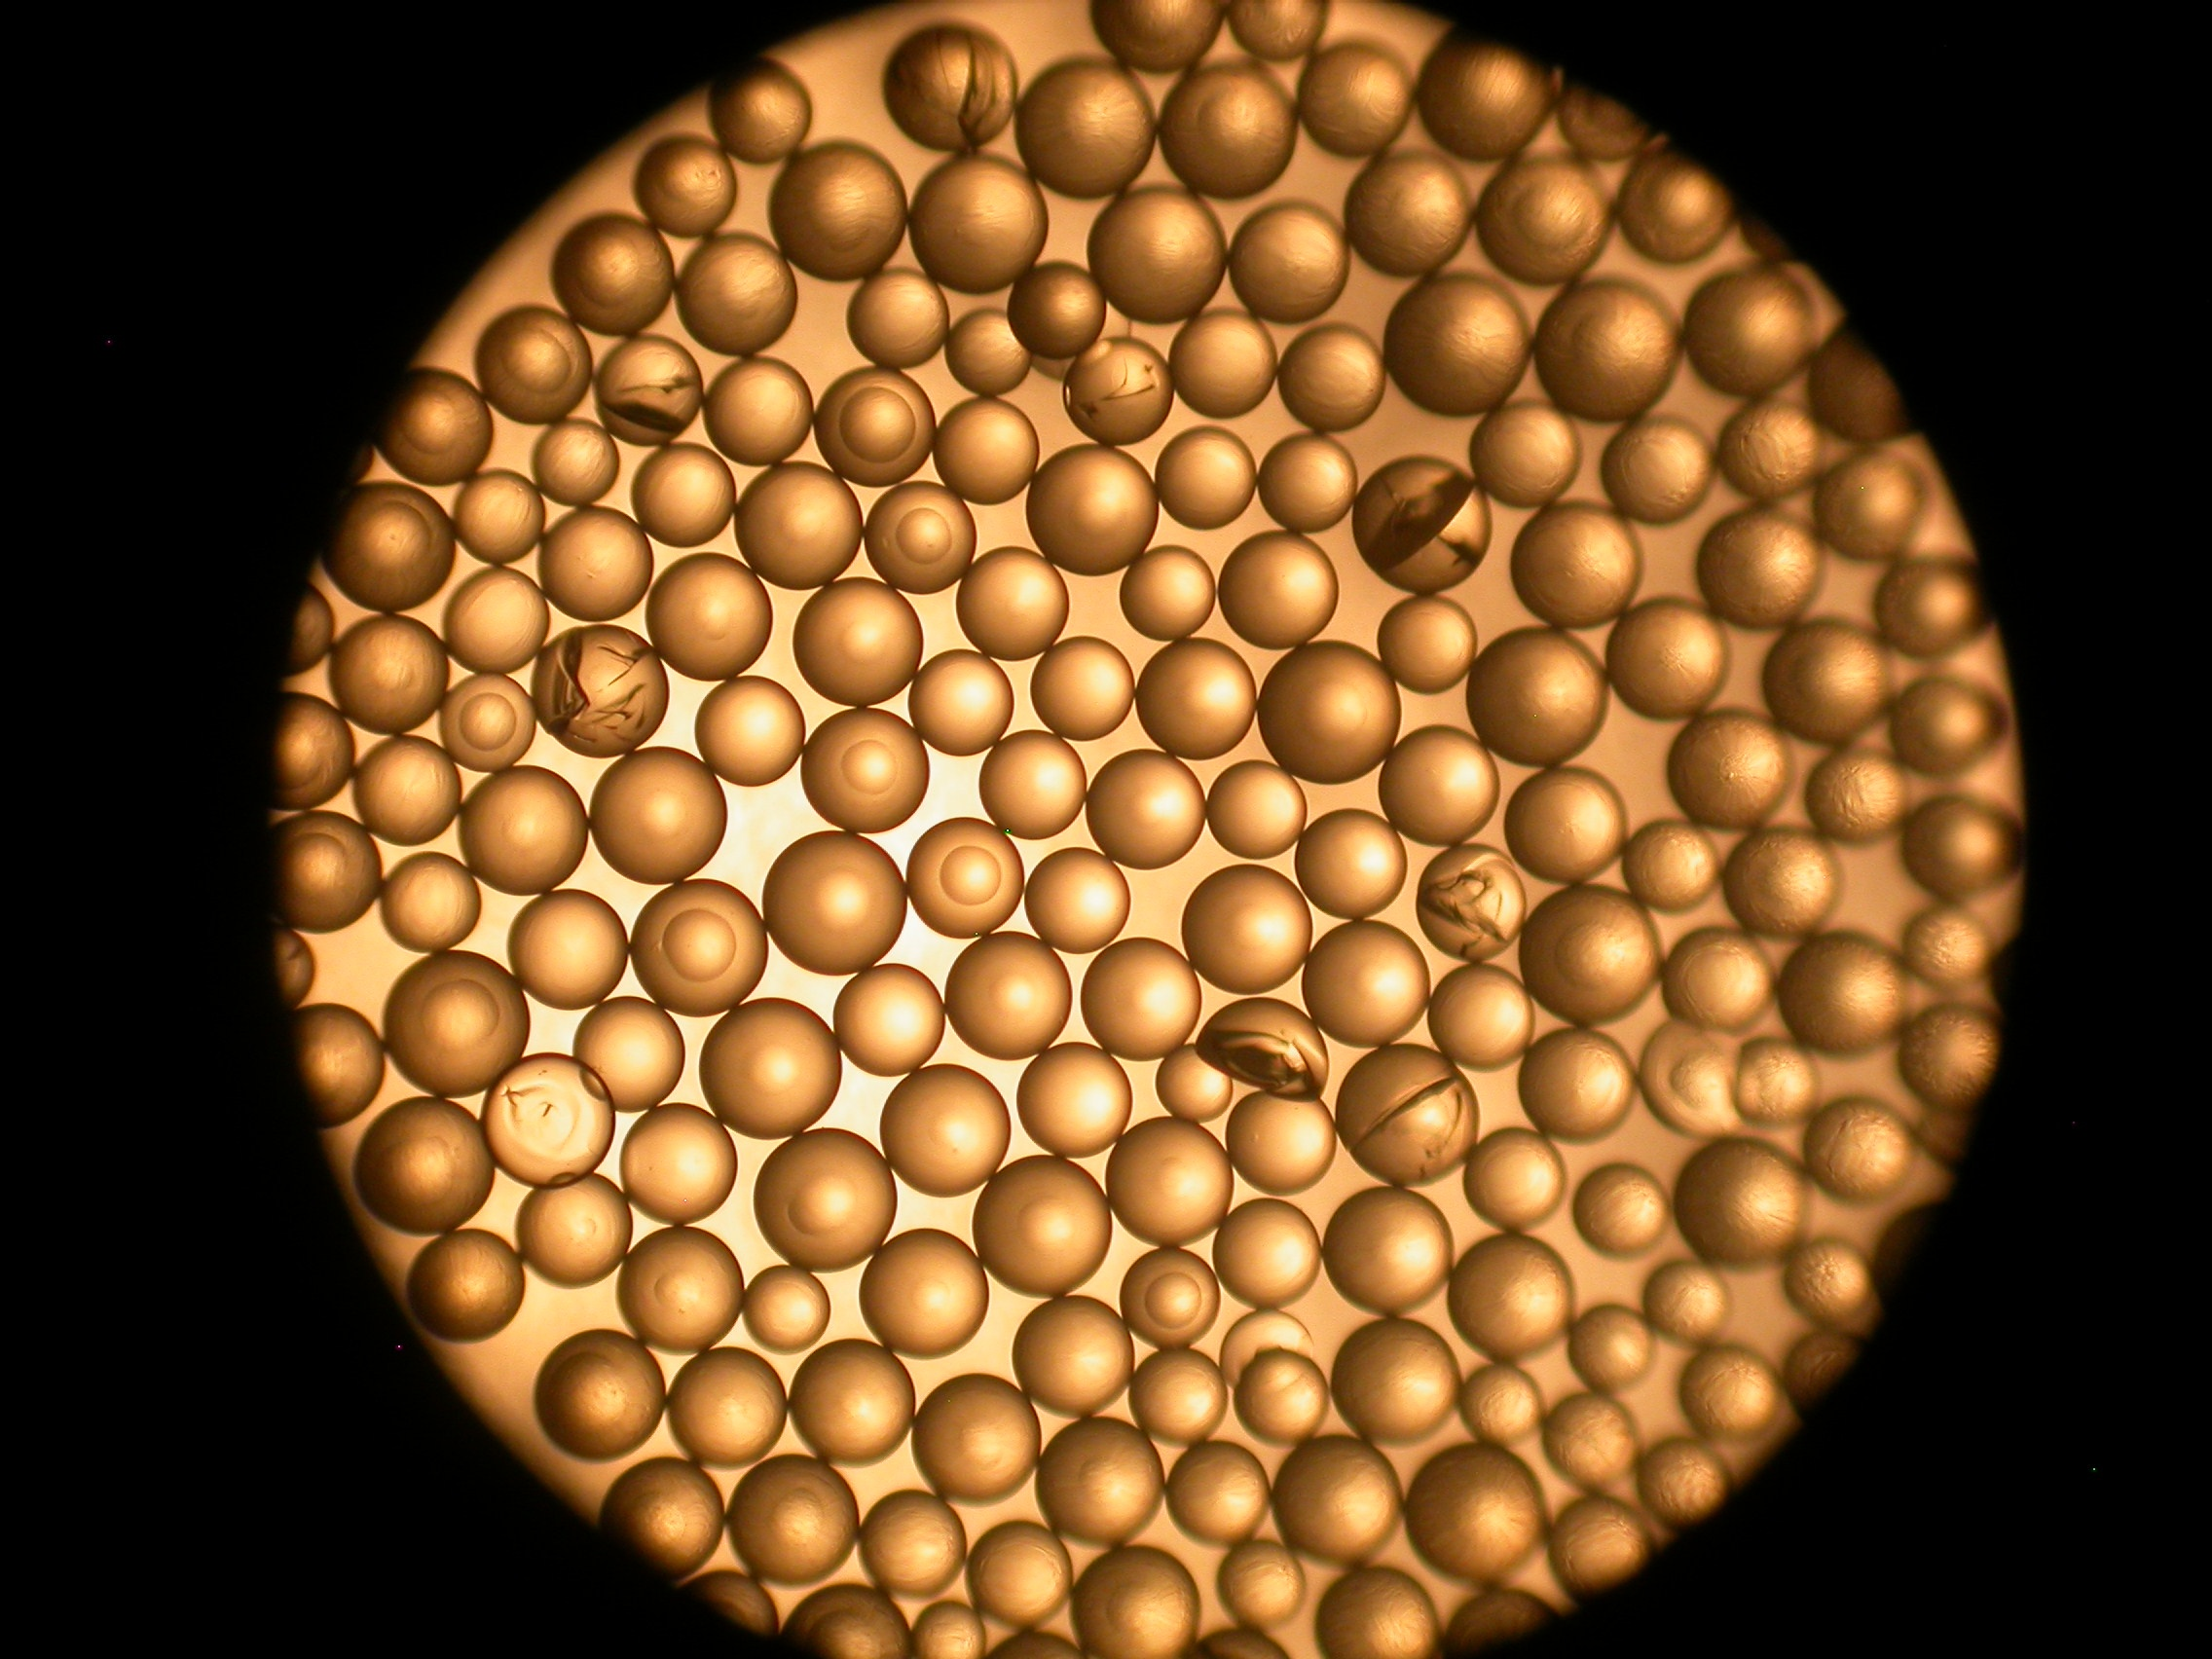destroyed_resin: (1334, 1044, 1479, 1188), (1350, 455, 1491, 592), (529, 622, 671, 758), (881, 21, 1019, 152), (1416, 843, 1529, 960), (1197, 999, 1331, 1094), (1062, 336, 1172, 446), (596, 335, 704, 446), (1639, 1021, 1737, 1140), (1221, 1312, 1308, 1380)
full_resin: (385, 950, 531, 1100), (1385, 274, 1531, 418), (763, 831, 907, 976), (698, 997, 843, 1141), (1258, 640, 1402, 784), (1406, 1441, 1547, 1588), (754, 1129, 897, 1272), (1536, 279, 1679, 422), (1519, 885, 1662, 1028), (972, 1155, 1113, 1298), (909, 153, 1050, 296), (352, 1096, 496, 1236), (1015, 59, 1157, 200), (1467, 627, 1608, 769), (768, 141, 907, 281), (631, 878, 770, 1018), (1087, 186, 1226, 326), (587, 746, 726, 884), (1158, 61, 1298, 199), (320, 479, 456, 613), (1475, 153, 1613, 284), (533, 1328, 665, 1462), (1181, 863, 1313, 995), (1026, 444, 1158, 577), (880, 1065, 1010, 1199), (1416, 31, 1550, 162), (728, 1455, 860, 1586), (1674, 1140, 1806, 1270), (1686, 263, 1813, 399), (1035, 1417, 1165, 1547), (1324, 1187, 1454, 1317), (1271, 1436, 1402, 1567), (1331, 1317, 1463, 1446), (944, 931, 1073, 1061), (911, 1375, 1042, 1504), (860, 1229, 989, 1359), (460, 767, 589, 897), (1510, 502, 1641, 631), (1104, 1117, 1233, 1246), (733, 462, 862, 591), (1303, 920, 1432, 1049), (787, 1338, 916, 1467), (1447, 1234, 1576, 1363), (1778, 929, 1909, 1056), (1763, 620, 1897, 744), (794, 579, 923, 706), (646, 552, 773, 681), (799, 708, 930, 833), (618, 1225, 744, 1356), (1346, 152, 1472, 279), (1606, 596, 1731, 721), (1696, 505, 1824, 629), (1667, 709, 1796, 831), (550, 213, 674, 336), (1615, 145, 1738, 268), (1080, 938, 1202, 1063), (599, 1457, 725, 1579), (1376, 725, 1501, 847), (676, 234, 798, 357), (1136, 638, 1258, 762), (664, 1347, 787, 1469), (1085, 748, 1207, 870), (1217, 530, 1339, 652), (507, 889, 629, 1011), (1071, 1546, 1202, 1659), (1012, 1297, 1134, 1417), (813, 368, 935, 488), (327, 615, 449, 735), (1228, 202, 1350, 322), (1505, 767, 1629, 885), (266, 809, 383, 934), (906, 817, 1024, 939), (620, 1103, 738, 1223), (514, 1168, 632, 1286), (374, 368, 493, 486), (475, 307, 592, 425), (1723, 826, 1844, 939), (1017, 1042, 1134, 1159), (408, 1229, 526, 1342), (538, 507, 653, 622), (573, 997, 686, 1114), (1296, 44, 1413, 157), (1519, 1028, 1635, 1141), (954, 547, 1069, 660), (1599, 413, 1716, 525), (833, 964, 946, 1077), (864, 481, 977, 594), (1813, 451, 1926, 565), (1813, 321, 1916, 444), (1294, 809, 1407, 920), (352, 734, 463, 847), (1211, 1197, 1322, 1309), (977, 728, 1087, 840), (695, 676, 805, 788), (287, 1004, 385, 1129), (704, 357, 813, 467), (857, 1490, 968, 1598), (1277, 322, 1388, 430), (1662, 927, 1777, 1032), (1226, 1089, 1336, 1197), (1472, 401, 1581, 509), (1804, 1098, 1916, 1204), (1024, 847, 1132, 955), (1426, 964, 1534, 1072), (442, 566, 550, 674), (1169, 310, 1277, 418), (963, 1520, 1073, 1626), (1900, 795, 2010, 901), (1315, 1567, 1440, 1659), (1717, 396, 1825, 502), (1897, 1004, 2005, 1110), (1876, 554, 1986, 659), (1029, 636, 1136, 742), (909, 648, 1014, 756), (934, 399, 1038, 505), (631, 443, 735, 549), (707, 59, 812, 166), (1167, 1441, 1270, 1547), (632, 136, 737, 239), (265, 692, 355, 810), (1548, 1497, 1651, 1600), (845, 268, 949, 369), (1157, 427, 1258, 530), (1376, 594, 1479, 695), (1463, 1129, 1566, 1230), (1120, 1248, 1221, 1349), (1681, 1344, 1782, 1445), (1892, 678, 1994, 777), (1804, 746, 1909, 843), (1207, 760, 1308, 859), (1258, 432, 1357, 533), (381, 852, 482, 951), (780, 1582, 911, 1659), (1129, 1349, 1230, 1446), (1087, 2, 1224, 71), (439, 674, 535, 774), (1545, 1392, 1641, 1490), (1571, 1162, 1670, 1256), (1120, 545, 1216, 641), (1623, 819, 1721, 913), (1233, 1352, 1329, 1446), (453, 469, 547, 563), (1008, 263, 1104, 355), (1902, 901, 1994, 993), (1733, 1035, 1820, 1133), (1639, 1439, 1733, 1528), (742, 1265, 833, 1356), (1217, 1539, 1306, 1629), (1782, 1237, 1872, 1324), (944, 308, 1035, 394), (1644, 1258, 1731, 1345), (531, 420, 620, 505), (1569, 1305, 1656, 1389), (1460, 1364, 1545, 1446), (1153, 1042, 1235, 1122), (1226, 2, 1331, 61), (911, 1600, 988, 1659)
